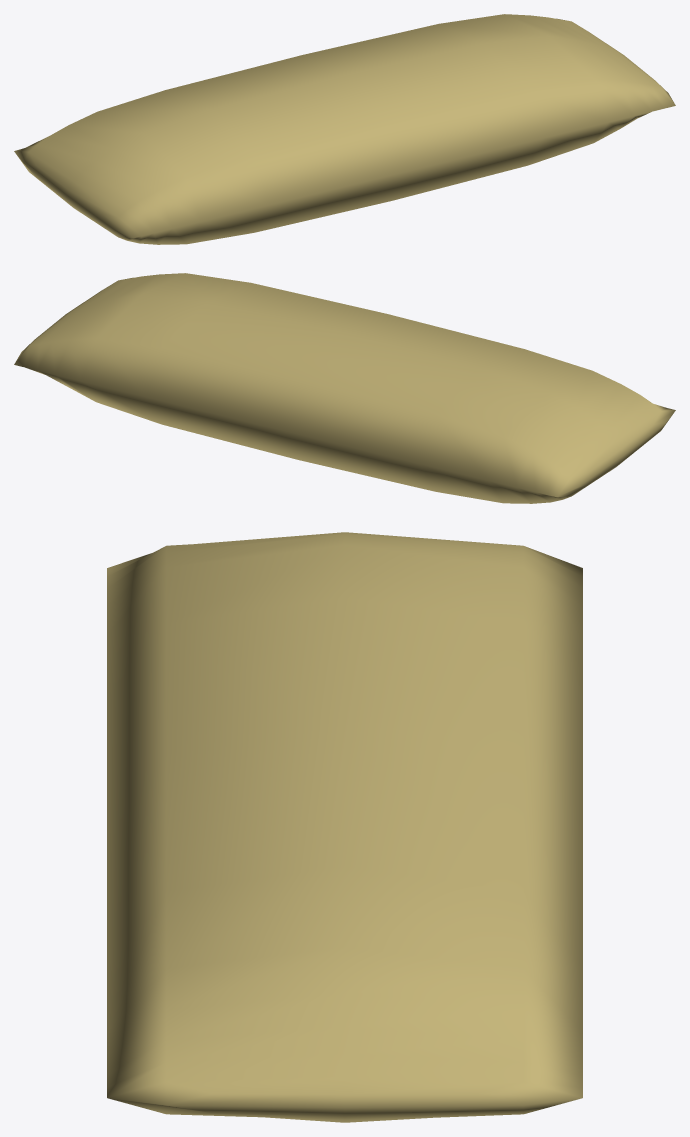
The model's file is MS_Sandbag.fbx.
3 views of the same model, one above another, from view 1: azimuth 30°, elevation 25°; view 2: azimuth 150°, elevation 25°; view 3: azimuth 270°, elevation 25° (orthographic). The views are drawn at different scales.
Visible parts, largest first — view 1: pCube1; view 2: pCube1; view 3: pCube1.
Part boxes in pixels (bbox=[...]): pCube1: bbox=[14, 14, 675, 244]; pCube1: bbox=[14, 273, 675, 503]; pCube1: bbox=[107, 532, 582, 1122].
Bounding box in the file's own units: 16.4 × 3.01 × 6.04.
